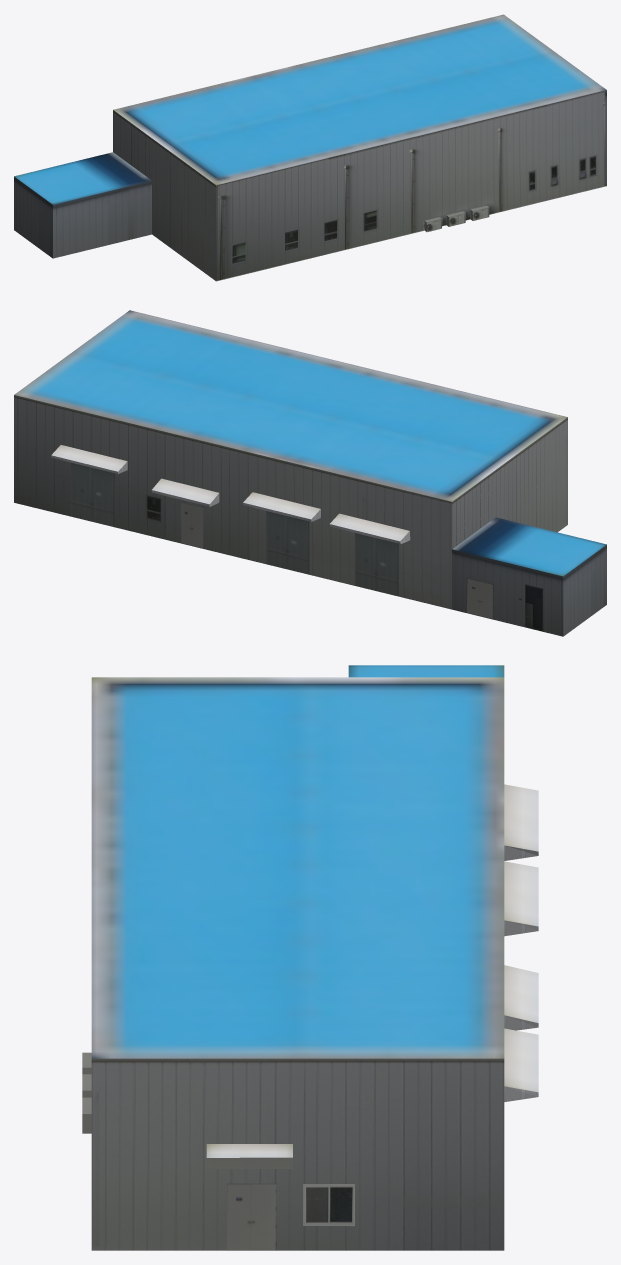
3 renders of one model, top to bottom at view 1: azimuth 30°, elevation 25°; view 2: azimuth 150°, elevation 25°; view 3: azimuth 270°, elevation 25°, orthographic. The views are drawn at different scales.
Visible parts, largest first — view 1: MainBuilding; view 2: MainBuilding; view 3: MainBuilding.
Part boxes in pixels (bbox=[...]): MainBuilding: bbox=[14, 14, 606, 281]; MainBuilding: bbox=[14, 310, 606, 636]; MainBuilding: bbox=[82, 665, 538, 1250].
Bounding box in the file's own units: 3.92 × 0.7148 × 1.54.
1 material, 1 textured.
